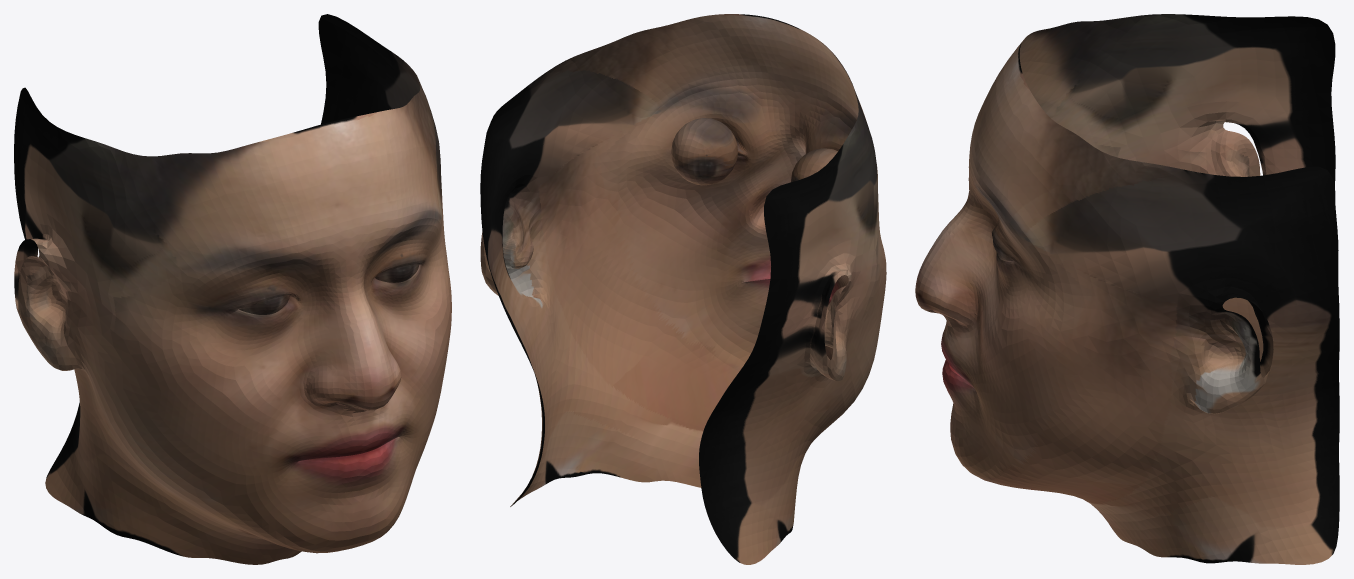
The model's file is baseline.glb.
The picture shows the model from 3 angles, left to right: view 1: azimuth 30°, elevation 25°; view 2: azimuth 150°, elevation 25°; view 3: azimuth 270°, elevation 25°; orthographic projection. The views are drawn at different scales.
Parts seen in each view (by area): view 1: geometry_0; view 2: geometry_0; view 3: geometry_0.
Boxes of the visible parts, x1,y1,x2,y2 form: geometry_0: (14, 14, 451, 564); geometry_0: (480, 14, 886, 564); geometry_0: (915, 14, 1339, 564).
Size of the model in its own units: 0.1711 by 0.2065 by 0.1681.
1 material, 1 textured.
